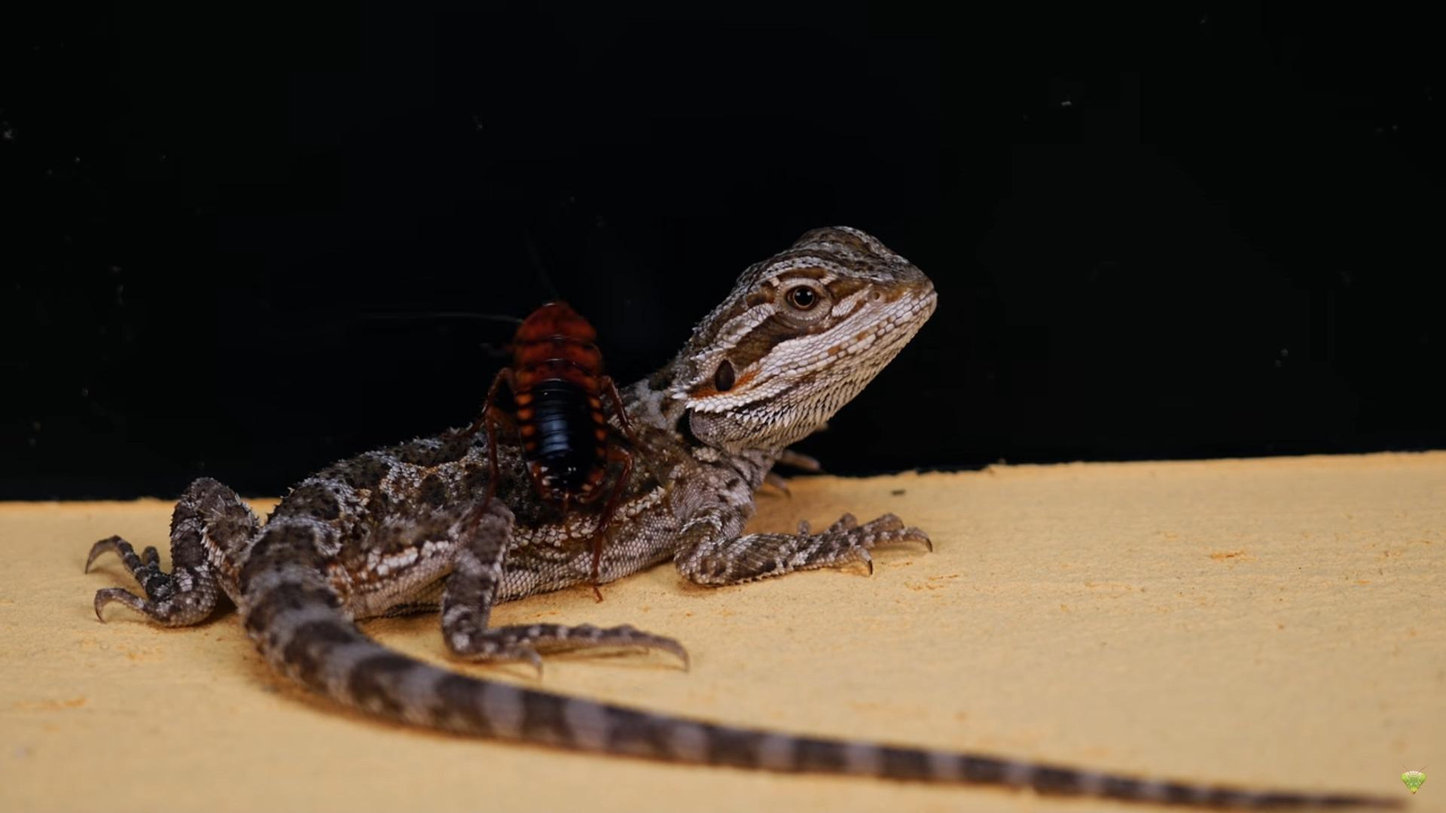cockroach: (460, 278, 645, 582)
lizard: (112, 205, 955, 777)
